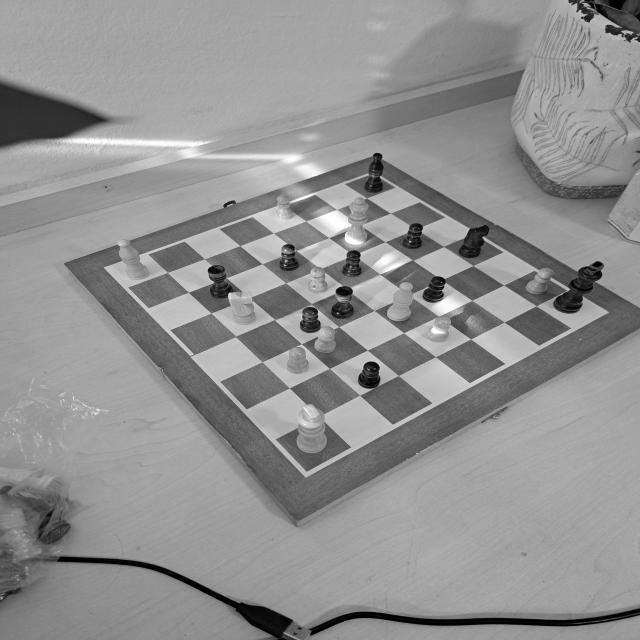chess-table-corners: (294, 463, 320, 481), (98, 262, 120, 276), (362, 169, 385, 182), (592, 306, 612, 318)
